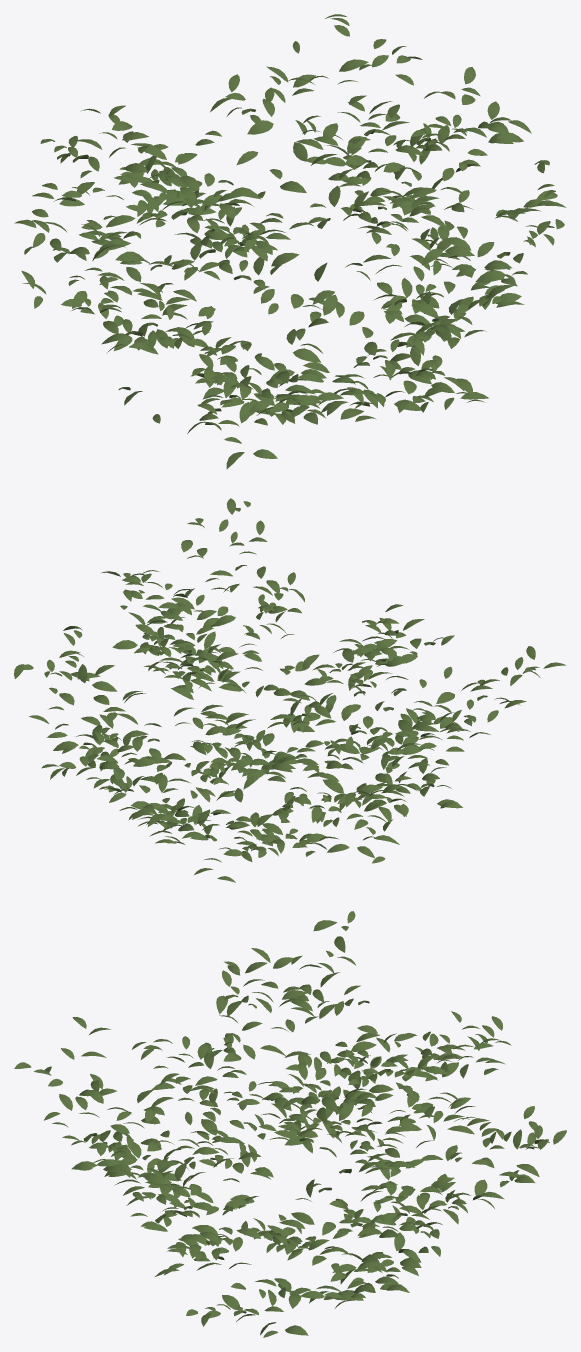
Rendered from s99-tree-foliage_mid.glb.
3 views of the same model, one above another, from view 1: azimuth 30°, elevation 25°; view 2: azimuth 150°, elevation 25°; view 3: azimuth 270°, elevation 25° (orthographic). The views are drawn at different scales.
Visible parts, largest first — view 1: s97_source_foliage_mid_mesh_model:0; view 2: s97_source_foliage_mid_mesh_model:0; view 3: s97_source_foliage_mid_mesh_model:0.
Boxes of the visible parts, left/top/right/bottom form: s97_source_foliage_mid_mesh_model:0: left=14, top=14, right=566, bottom=468; s97_source_foliage_mid_mesh_model:0: left=14, top=498, right=566, bottom=882; s97_source_foliage_mid_mesh_model:0: left=14, top=911, right=566, bottom=1337.
Bounding box in the file's own units: 3.51 × 2.18 × 3.64.
1 material, 1 textured.
